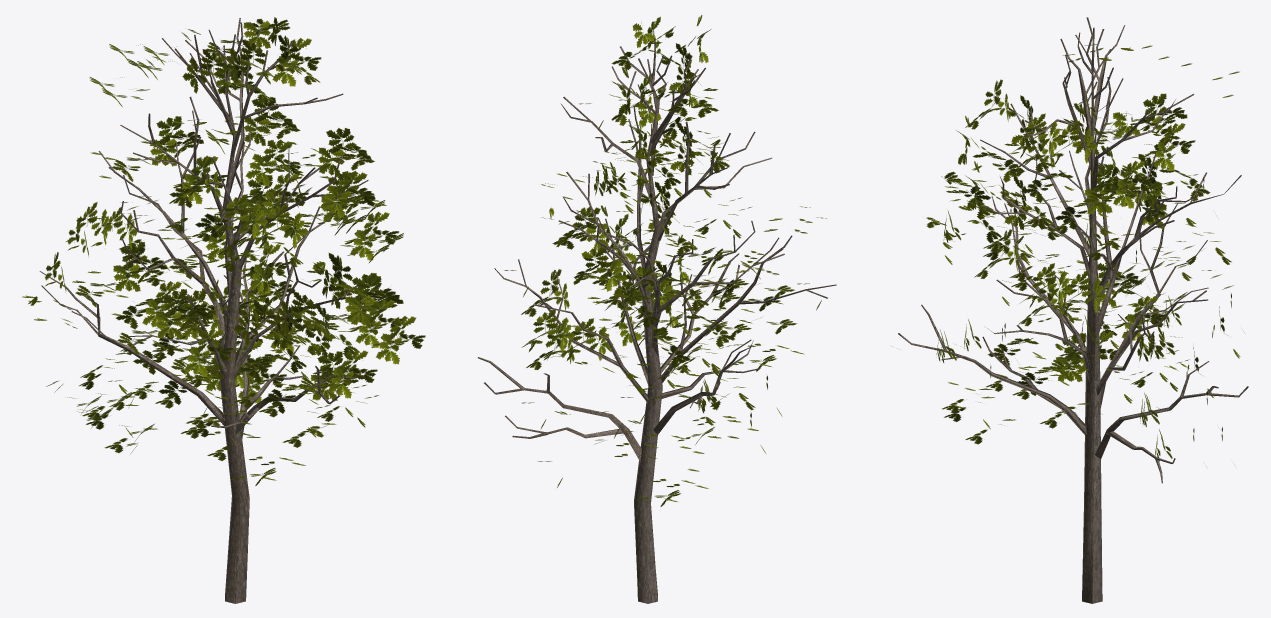
The model's file is tree.glb.
3 renders of one model, left to right at view 1: azimuth 30°, elevation 25°; view 2: azimuth 150°, elevation 25°; view 3: azimuth 270°, elevation 25°, orthographic. The views are drawn at different scales.
Parts seen in each view (by area): view 1: Leaf Oak, Wood - Bark, Leaf Oak2; view 2: Wood - Bark, Leaf Oak, Leaf Oak2; view 3: Leaf Oak, Wood - Bark, Leaf Oak2.
Boxes of the visible parts, x1=… form: Leaf Oak: x1=22, y1=17, x2=416, y2=486; Wood - Bark: x1=39, y1=18, x2=383, y2=603; Leaf Oak2: x1=45, y1=27, x2=425, y2=464; Wood - Bark: x1=478, y1=38, x2=836, y2=603; Leaf Oak: x1=521, y1=15, x2=826, y2=506; Leaf Oak2: x1=504, y1=16, x2=809, y2=487; Leaf Oak: x1=891, y1=44, x2=1244, y2=468; Wood - Bark: x1=898, y1=17, x2=1248, y2=603; Leaf Oak2: x1=944, y1=63, x2=1231, y2=440.
Bounding box in the file's own units: 5.87 × 9.35 × 5.64.
Materials: 3 (3 with a texture image).
